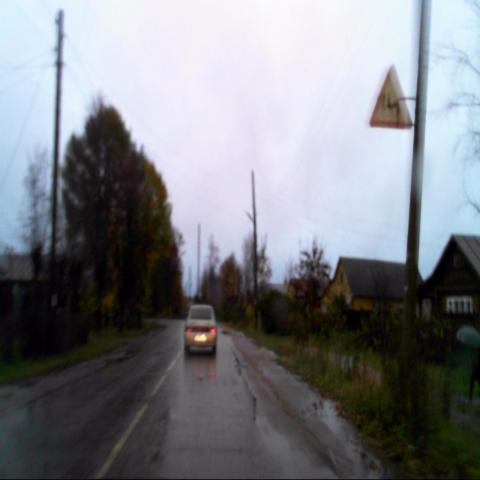1_12_2: (369, 64, 413, 130)
